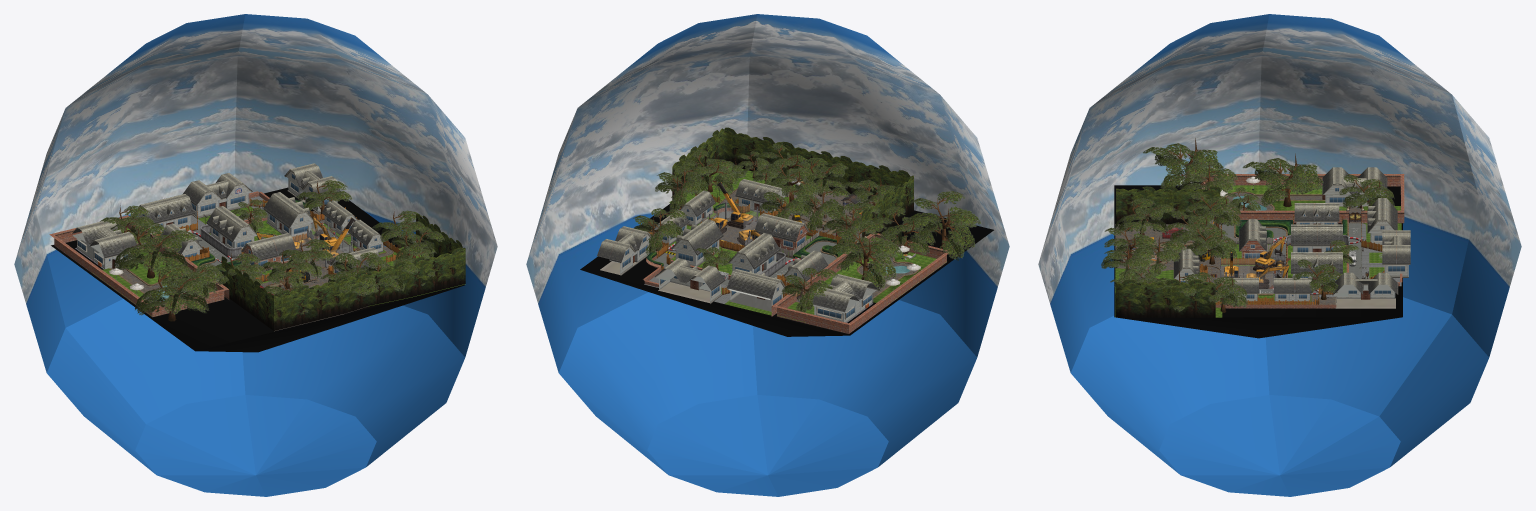
File: town.glb
The picture shows the model from 3 angles, left to right: view 1: azimuth 30°, elevation 25°; view 2: azimuth 150°, elevation 25°; view 3: azimuth 270°, elevation 25°; orthographic projection.
Parts seen in each view (by area): view 1: sky, Combined Mesh (root: scene) 3.320_main.003_0, Combined Mesh (root: scene).045_main_0, Combined Mesh (root: scene) 2.002_main_0, Combined Mesh (root: scene).034_main_0, Combined Mesh (root: scene).042_main_0, Combined Mesh (root: scene) 3.359_main.004_0, Combined Mesh (root: scene) 2.015_main_0, Combined Mesh (root: scene) 2.014_main_0, Combined Mesh (root: scene).017_main_0, Combined Mesh (root: scene).043_main_0, Combined Mesh (root: scene).044_main_0 (+8 smaller); view 2: sky, Combined Mesh (root: scene) 3.320_main.003_0, Combined Mesh (root: scene).045_main_0, Combined Mesh (root: scene) 2.002_main_0, Combined Mesh (root: scene) 3.359_main.004_0, Combined Mesh (root: scene).042_main_0, Combined Mesh (root: scene).034_main_0, Combined Mesh (root: scene) 2.014_main_0, Combined Mesh (root: scene).043_main_0, Combined Mesh (root: scene) 2.015_main_0, Combined Mesh (root: scene).017_main_0, Combined Mesh (root: scene) 3_main_0 (+9 smaller); view 3: sky, Combined Mesh (root: scene) 3.320_main.003_0, Combined Mesh (root: scene).045_main_0, Combined Mesh (root: scene) 2.002_main_0, Combined Mesh (root: scene).043_main_0, Combined Mesh (root: scene) 3.359_main.004_0, Combined Mesh (root: scene).034_main_0, Combined Mesh (root: scene).017_main_0, Combined Mesh (root: scene) 3.362_main.008_0, Combined Mesh (root: scene).042_main_0, Combined Mesh (root: scene) 3_main_0, Combined Mesh (root: scene) 3.031_main.001_0 (+10 smaller).
Part boxes in pixels (x1,y1,x2,y2): sky: [14, 14, 497, 496]; Combined Mesh (root: scene) 3.320_main.003_0: [221, 213, 465, 330]; Combined Mesh (root: scene).045_main_0: [51, 187, 464, 352]; Combined Mesh (root: scene) 2.002_main_0: [49, 191, 269, 317]; Combined Mesh (root: scene).034_main_0: [72, 219, 137, 268]; Combined Mesh (root: scene).042_main_0: [182, 173, 252, 218]; Combined Mesh (root: scene) 3.359_main.004_0: [92, 220, 465, 316]; Combined Mesh (root: scene) 2.015_main_0: [263, 192, 313, 239]; Combined Mesh (root: scene) 2.014_main_0: [136, 194, 194, 234]; Combined Mesh (root: scene).017_main_0: [206, 206, 257, 248]; Combined Mesh (root: scene).043_main_0: [284, 163, 340, 213]; Combined Mesh (root: scene).044_main_0: [241, 233, 296, 271]; sky: [526, 14, 1009, 496]; Combined Mesh (root: scene) 3.320_main.003_0: [672, 127, 913, 238]; Combined Mesh (root: scene).045_main_0: [580, 204, 993, 336]; Combined Mesh (root: scene) 2.002_main_0: [643, 207, 948, 333]; Combined Mesh (root: scene) 3.359_main.004_0: [669, 166, 946, 322]; Combined Mesh (root: scene).042_main_0: [654, 258, 725, 303]; Combined Mesh (root: scene).034_main_0: [810, 274, 877, 322]; Combined Mesh (root: scene) 2.014_main_0: [726, 269, 785, 311]; Combined Mesh (root: scene).043_main_0: [597, 226, 651, 275]; Combined Mesh (root: scene) 2.015_main_0: [671, 219, 723, 266]; Combined Mesh (root: scene).017_main_0: [728, 233, 780, 274]; Combined Mesh (root: scene) 3_main_0: [648, 193, 857, 297]; sky: [1038, 14, 1521, 496]; Combined Mesh (root: scene) 3.320_main.003_0: [1116, 186, 1220, 317]; Combined Mesh (root: scene).045_main_0: [1114, 185, 1402, 338]; Combined Mesh (root: scene) 2.002_main_0: [1201, 174, 1404, 308]; Combined Mesh (root: scene).043_main_0: [1333, 272, 1398, 308]; Combined Mesh (root: scene) 3.359_main.004_0: [1115, 185, 1401, 317]; Combined Mesh (root: scene).034_main_0: [1322, 167, 1387, 208]; Combined Mesh (root: scene).017_main_0: [1291, 222, 1342, 252]; Combined Mesh (root: scene) 3.362_main.008_0: [1115, 224, 1273, 289]; Combined Mesh (root: scene).042_main_0: [1379, 230, 1410, 277]; Combined Mesh (root: scene) 3_main_0: [1175, 215, 1384, 304]; Combined Mesh (root: scene) 3.031_main.001_0: [1220, 223, 1361, 294].
Size of the model in its own units: 2207 by 2216 by 2207.
19 materials, 19 textured.
